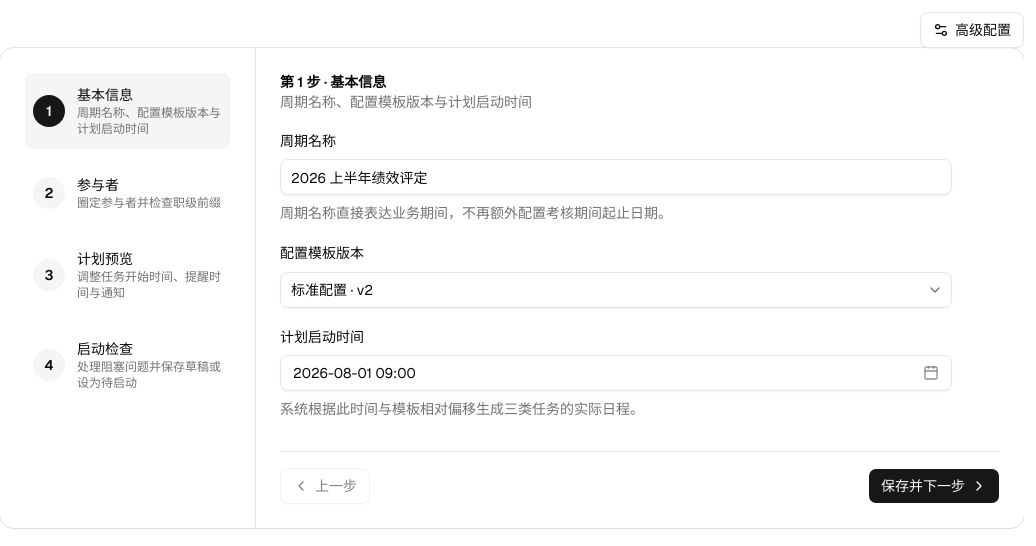
CycleSetupEditor › 启动问题可跳回对应步骤，未通过时不能设为待启动
This screenshot has width=1036, height=546.
Click the button "4 启动检查 处理阻塞问题并保存草稿或设为待启动" at (128, 365), box [24,326,231,404]
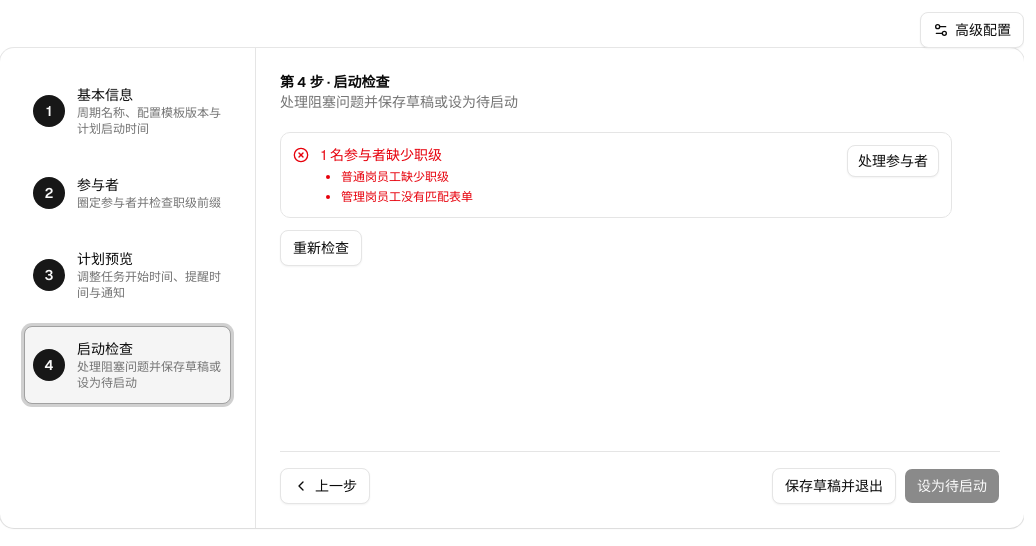
Now the text "1 名参与者缺少职级" is shown, box [321,146,442,164]
Now the list item "普通岗员工缺少职级" is shown, box [341,169,449,185]
Now the list item "管理岗员工没有匹配表单" is shown, box [341,189,473,205]
Click the button "处理参与者" at (893, 161), box [847,145,939,177]
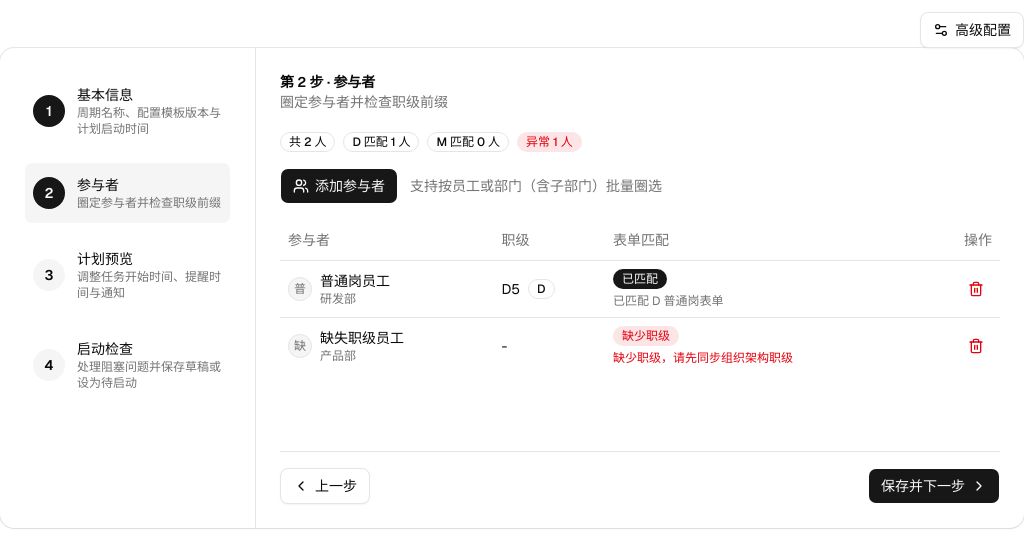
Now the text "D 匹配 1 人" is shown, box [343,132,419,152]
